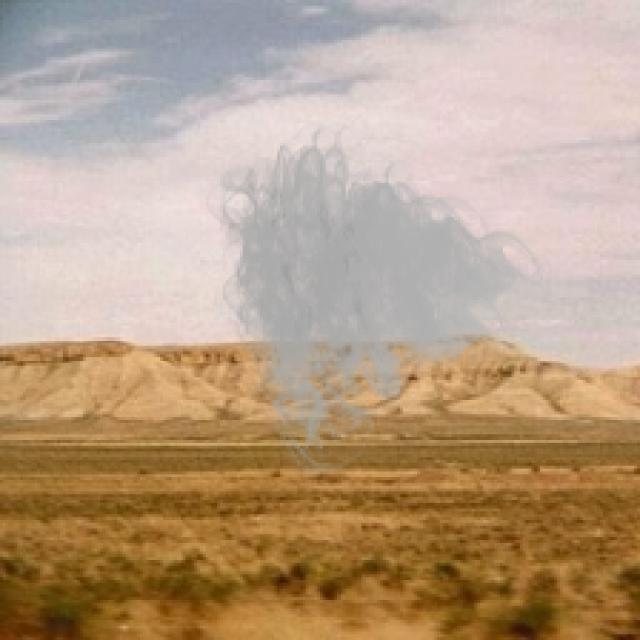smoke: (197, 111, 552, 483)
